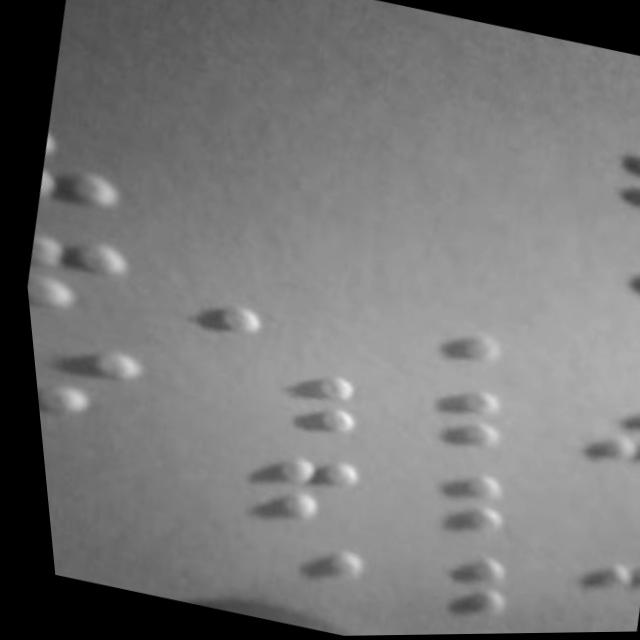braiile: (190, 331, 372, 454), (184, 429, 365, 542), (25, 110, 151, 231), (25, 330, 146, 454), (17, 219, 138, 341), (540, 380, 640, 479), (534, 527, 640, 620), (549, 133, 640, 241), (543, 217, 640, 314), (543, 460, 640, 542)
